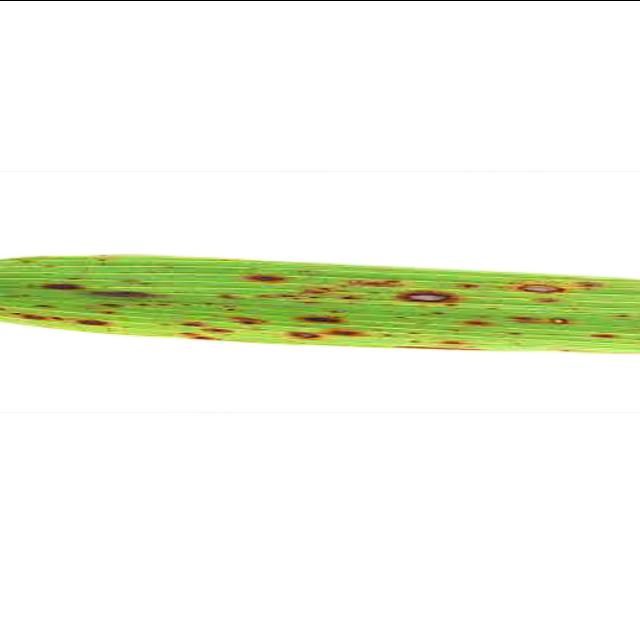Brown spot: (0, 246, 640, 414)
